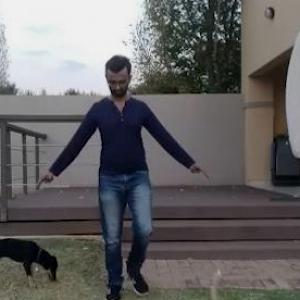land: (61, 71, 204, 299)
